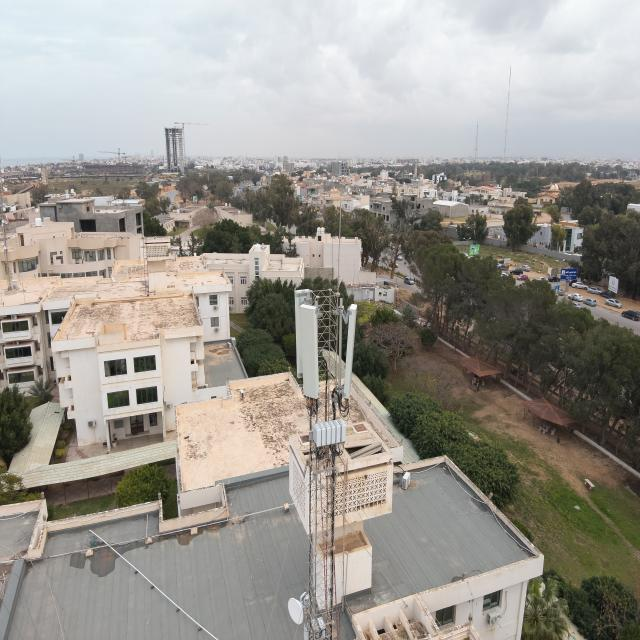antenna: (300, 304, 320, 402), (294, 288, 312, 379), (342, 302, 358, 398)
lighnig-rad: (336, 199, 342, 296)
microware-dish: (286, 592, 310, 625)
power-box: (297, 615, 327, 639)
radio-unit: (313, 418, 347, 451)
